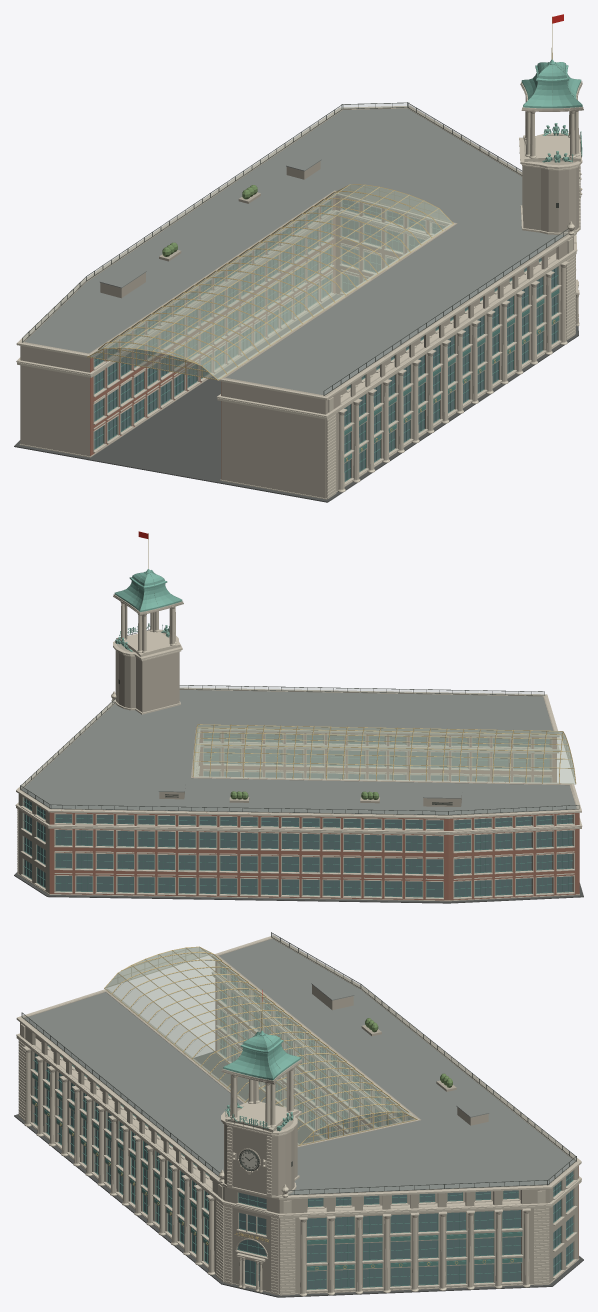
File: hongkou-general-post-office-lod.glb
3 views of the same model, one above another, from view 1: azimuth 30°, elevation 25°; view 2: azimuth 150°, elevation 25°; view 3: azimuth 270°, elevation 25° (orthographic). The views are drawn at different scales.
Parts seen in each view (by area): view 1: 上海邮政总局历史主楼与钟塔; view 2: 上海邮政总局历史主楼与钟塔; view 3: 上海邮政总局历史主楼与钟塔.
Part boxes in pixels (x1,y1,x2,y2): 上海邮政总局历史主楼与钟塔: (14,14,583,502); 上海邮政总局历史主楼与钟塔: (14,531,583,903); 上海邮政总局历史主楼与钟塔: (14,932,583,1297).
Bounding box in the file's own units: 112 × 57.7 × 102.
